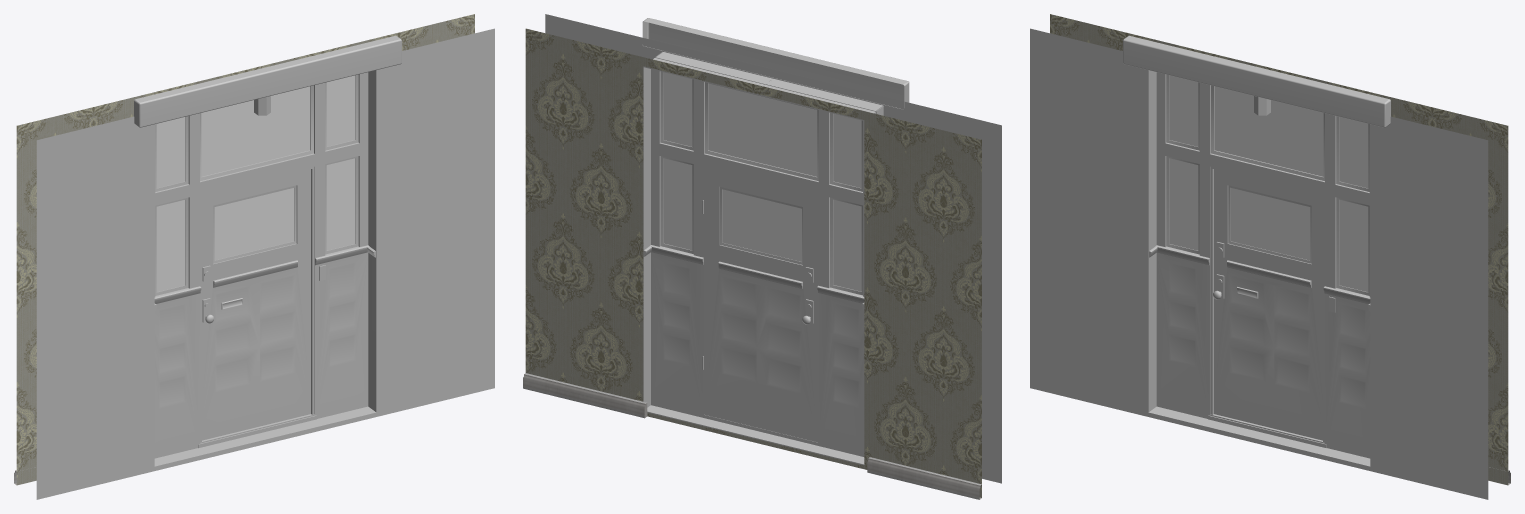
Rendered from House_02_Wall_Door_01.fbx.
3 renders of one model, left to right at view 1: azimuth 30°, elevation 25°; view 2: azimuth 150°, elevation 25°; view 3: azimuth 330°, elevation 25°, orthographic.
Parts seen in each view (by area): view 1: House_02_Wall_Door_LOD0, House_02_Door_LOD0; view 2: House_02_Wall_Door_LOD0, House_02_Door_LOD0; view 3: House_02_Wall_Door_LOD0, House_02_Door_LOD0.
Part boxes in pixels (bbox=[...]): House_02_Wall_Door_LOD0: bbox=[14, 14, 494, 499]; House_02_Door_LOD0: bbox=[202, 169, 310, 440]; House_02_Wall_Door_LOD0: bbox=[523, 14, 1001, 499]; House_02_Door_LOD0: bbox=[702, 166, 818, 442]; House_02_Wall_Door_LOD0: bbox=[1030, 14, 1510, 499]; House_02_Door_LOD0: bbox=[1213, 169, 1322, 440].
Size of what is drawn, in the model's own units: 400 by 314 by 42.08.
